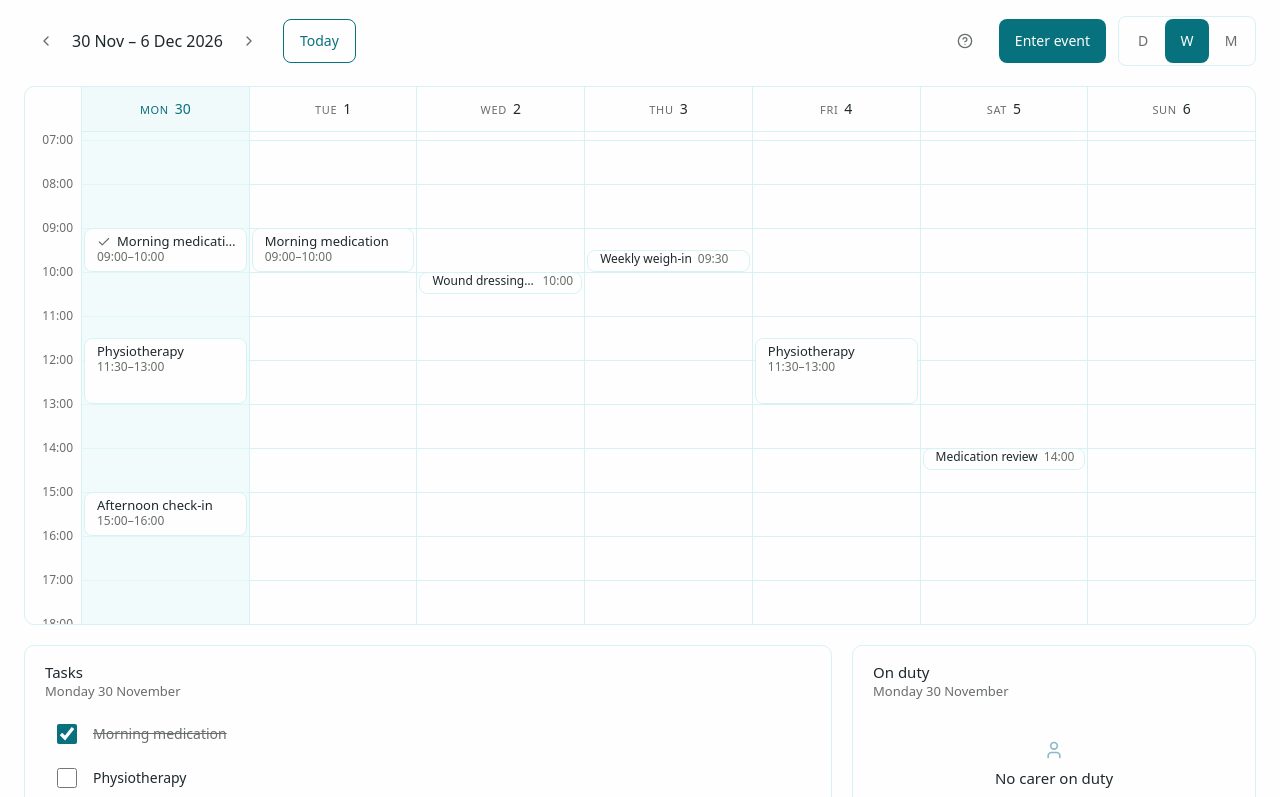
Test case: [FAM-UI-02][AC-03] Tasks panel › [FAM-UI-02][AC-03] T-03 given a user selects TUE 1, the subtitle reads 'Tuesday 1 December'
(page scrolled)
Click the button with test id "week-grid-header-2026-12-01".
click(333, 109)  # box [249,87,416,131]
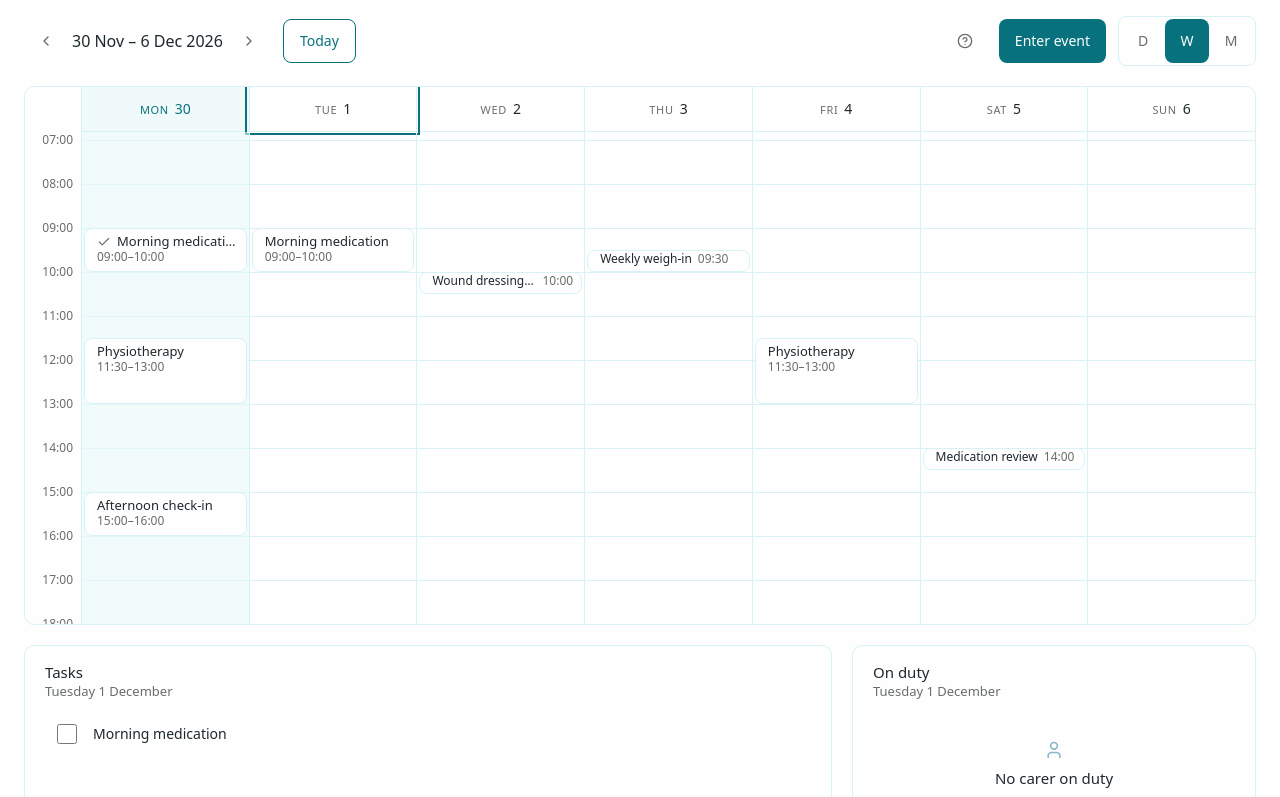
Now the text "Tuesday 1 December" below "Tasks" is shown, box [45,682,172,700]
Now the number of checkboxes is 1, box [57,724,77,744]
Now the checkbox labelled "Morning medication" is not checked, box [57,724,77,744]
